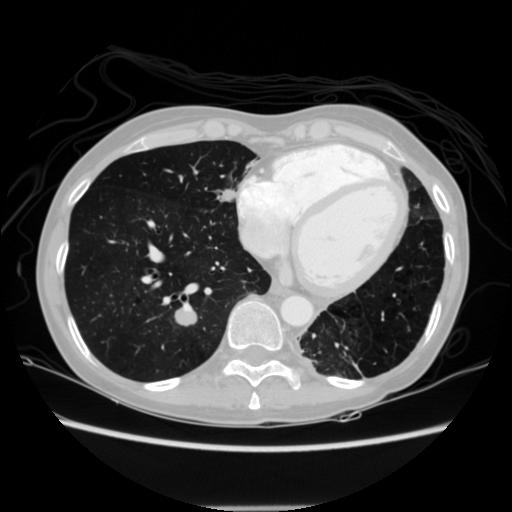nodule: (173, 304, 198, 329)
